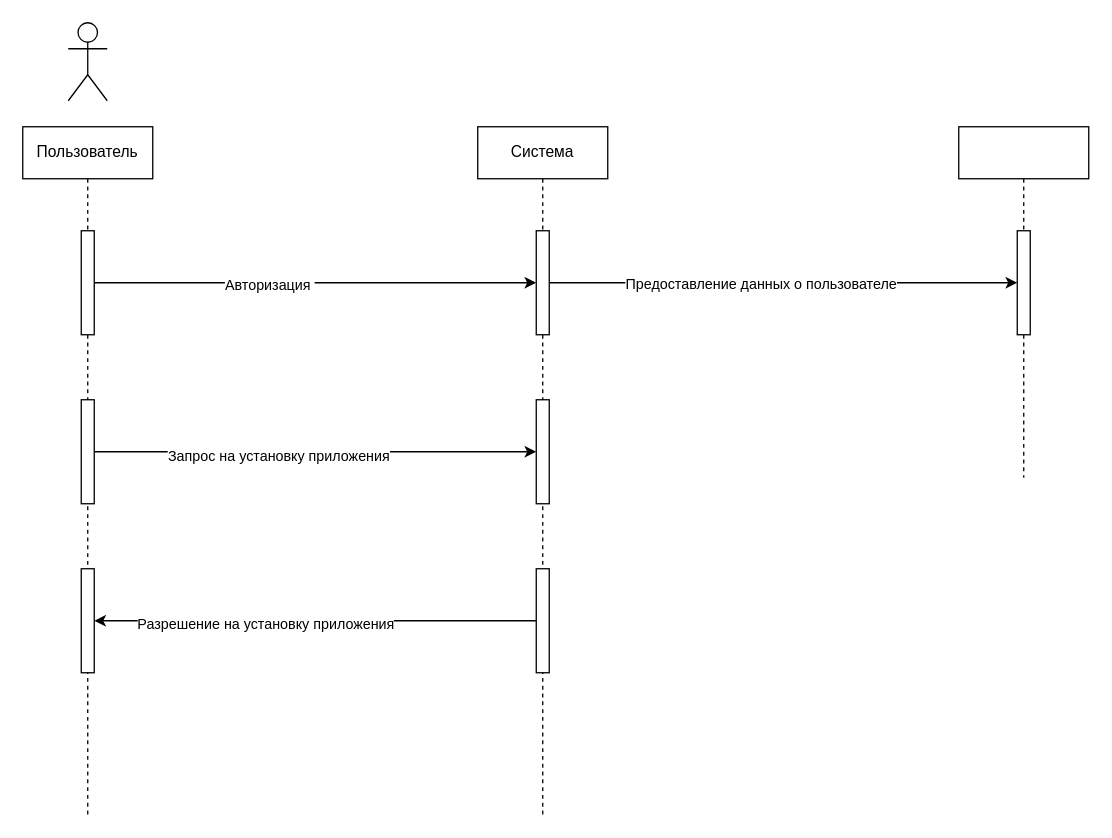
Image size: 1112x838. Some labels were removed from this diagram. The shapes that lost their labels are listed below. From the top down, each one's centre as x and y in pixels, then its label:
point 87,61: Actor
point 1023,301: Администратор
